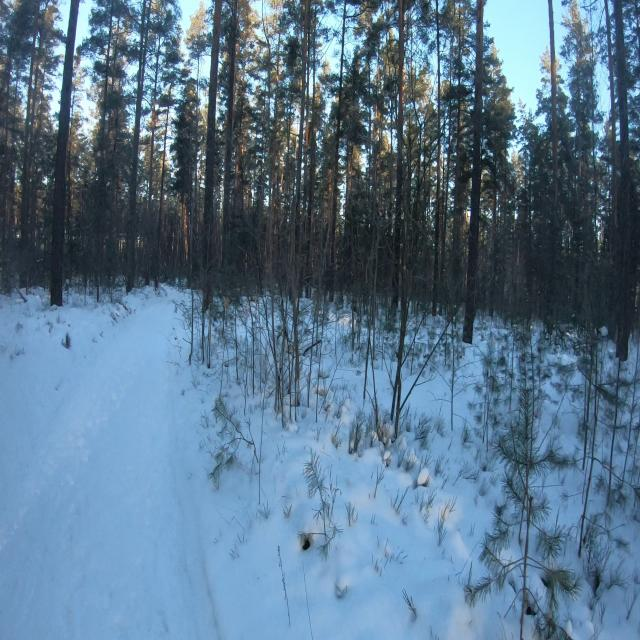bush: (465, 373, 580, 640), (238, 293, 356, 427), (580, 343, 637, 559), (19, 0, 40, 289)
trees: (50, 0, 80, 306), (462, 0, 484, 344), (390, 0, 407, 437), (613, 0, 633, 362), (126, 0, 150, 292), (202, 0, 222, 314), (19, 0, 40, 289), (291, 0, 310, 271), (224, 33, 246, 265), (20, 0, 40, 250), (170, 74, 196, 266), (95, 14, 112, 302), (330, 0, 346, 280), (222, 0, 238, 240), (392, 0, 404, 305), (604, 0, 618, 223), (146, 29, 160, 241), (548, 0, 559, 261), (432, 0, 441, 316), (154, 107, 169, 289), (98, 0, 113, 174), (267, 70, 279, 280), (146, 44, 160, 223), (308, 7, 317, 247), (548, 0, 558, 209), (452, 97, 462, 289), (490, 167, 497, 316), (413, 122, 423, 223), (443, 105, 450, 247), (4, 45, 13, 154), (302, 96, 310, 213), (526, 180, 532, 319), (305, 0, 311, 80), (593, 142, 598, 216), (549, 262, 557, 305), (367, 105, 372, 173), (300, 217, 307, 260), (145, 246, 150, 284), (151, 0, 160, 17), (276, 31, 280, 67), (548, 306, 555, 324), (146, 253, 150, 284), (414, 103, 419, 122), (3, 185, 8, 200), (591, 71, 594, 89), (367, 60, 370, 73), (592, 110, 594, 127)
